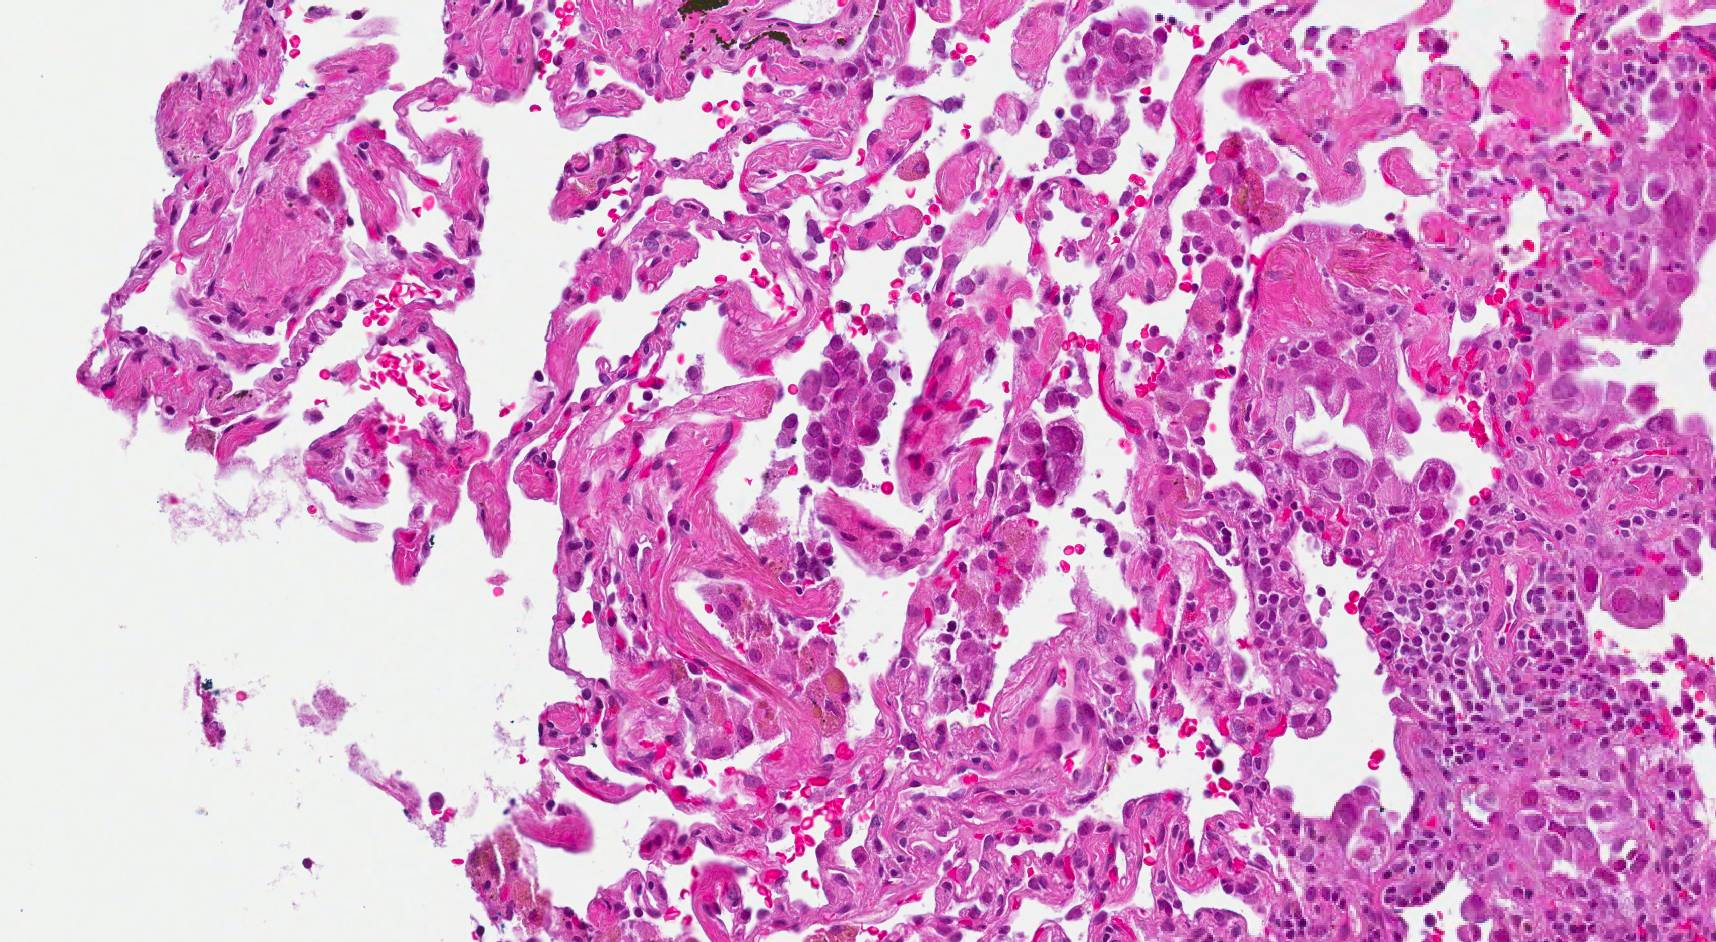stas: (776, 334, 901, 485), (1065, 15, 1166, 101), (1013, 409, 1089, 511), (1038, 99, 1132, 174)
